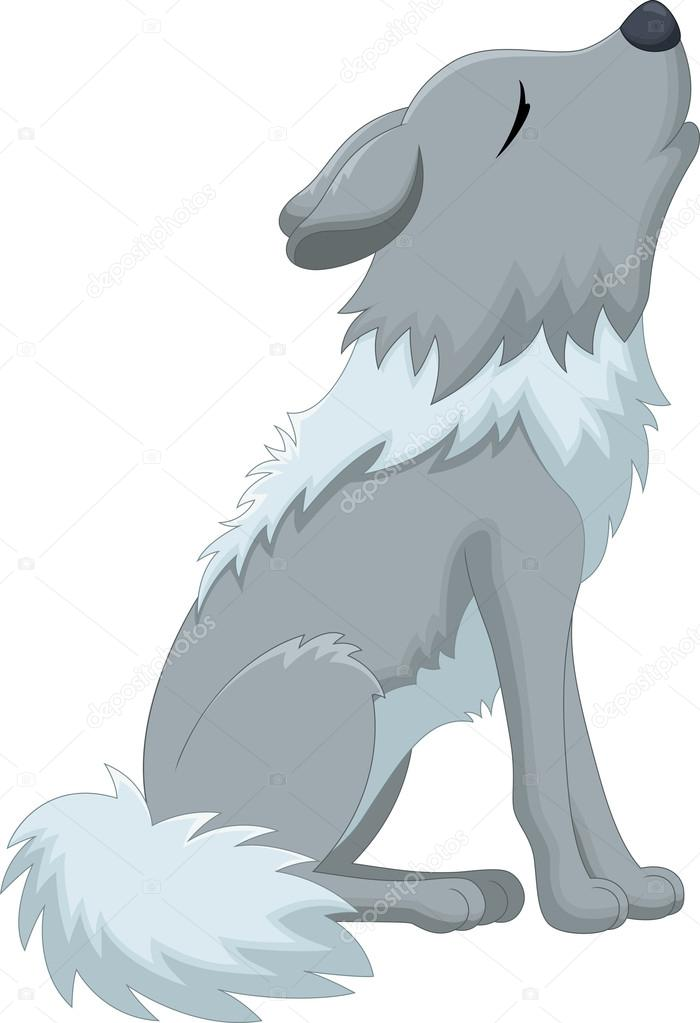Lobo: (4, 2, 699, 996)
